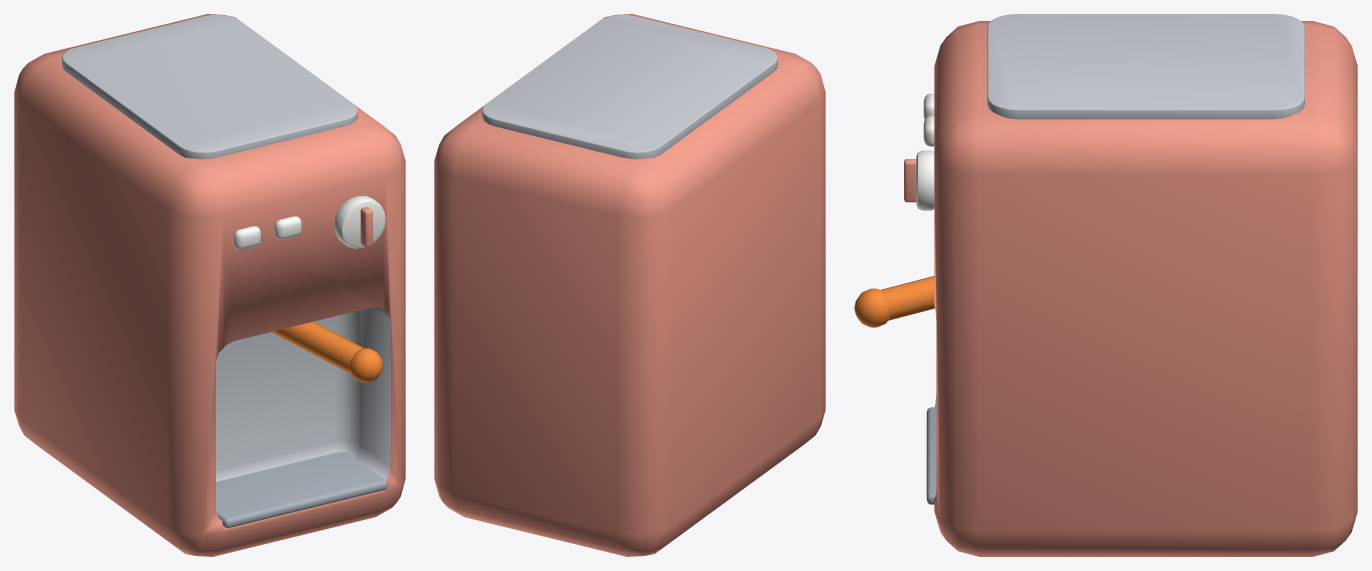
File: cafeteira_capsula_salmao.glb
The picture shows the model from 3 angles, left to right: view 1: azimuth 30°, elevation 25°; view 2: azimuth 150°, elevation 25°; view 3: azimuth 270°, elevation 25°; orthographic projection. The views are drawn at different scales.
Parts seen in each view (by area): view 1: cafeteira_capsula_salmao; view 2: cafeteira_capsula_salmao; view 3: cafeteira_capsula_salmao.
Part boxes in pixels (x1=…): cafeteira_capsula_salmao: x1=14, y1=14, x2=405, y2=556; cafeteira_capsula_salmao: x1=434, y1=14, x2=825, y2=556; cafeteira_capsula_salmao: x1=854, y1=14, x2=1357, y2=556.
Bounding box in the file's own units: 0.2 × 0.326 × 0.333.
Materials: 1 (1 with a texture image).
